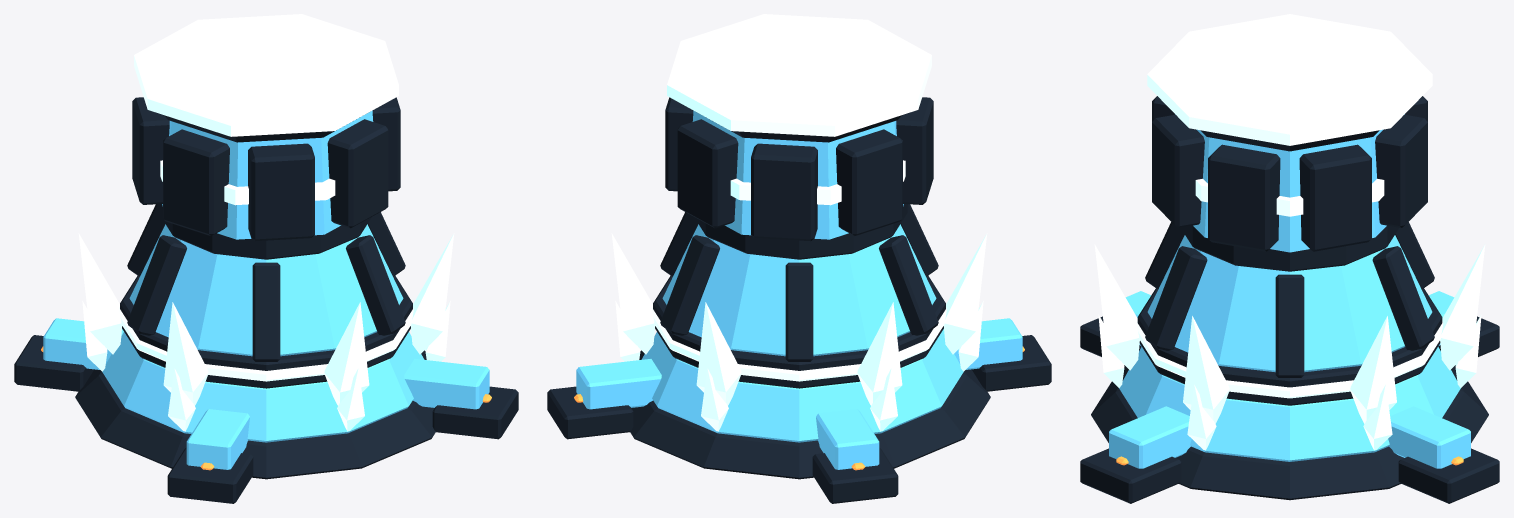
Rendered from tower_frost2_base.glb.
3 renders of one model, left to right at view 1: azimuth 30°, elevation 25°; view 2: azimuth 150°, elevation 25°; view 3: azimuth 270°, elevation 25°, orthographic. The views are drawn at different scales.
Visible parts, largest first — view 1: TowerFrost2_Base; view 2: TowerFrost2_Base; view 3: TowerFrost2_Base.
Part boxes in pixels (x1,y1,x2,y2): TowerFrost2_Base: [14, 14, 518, 503]; TowerFrost2_Base: [547, 14, 1051, 503]; TowerFrost2_Base: [1080, 14, 1499, 503].
Bounding box in the file's own units: 0.8754 × 0.788 × 0.8754.
